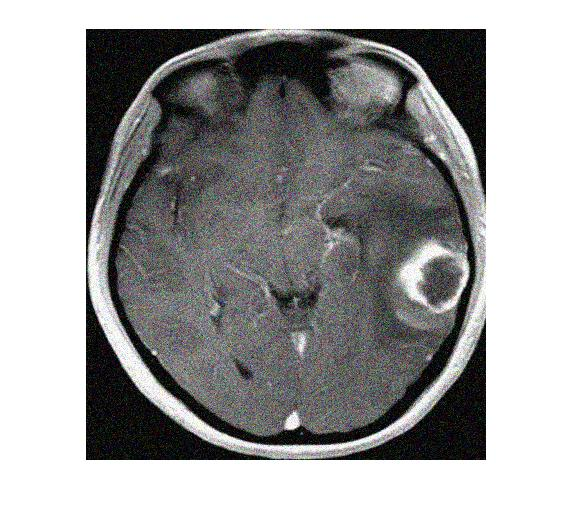Brain_Cancer: (397, 244, 472, 317)
